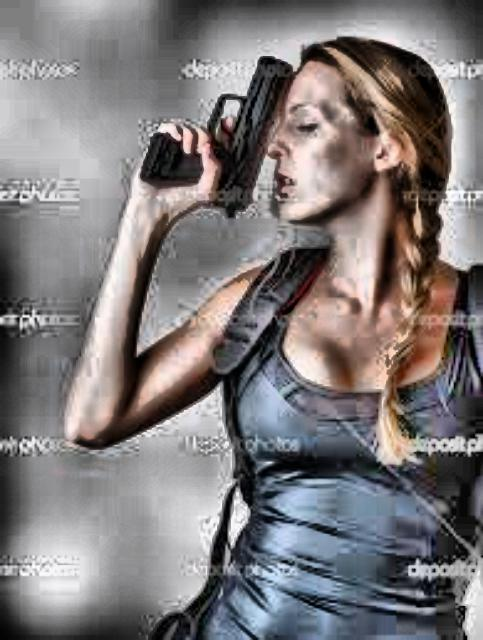pistol: (137, 52, 288, 210)
